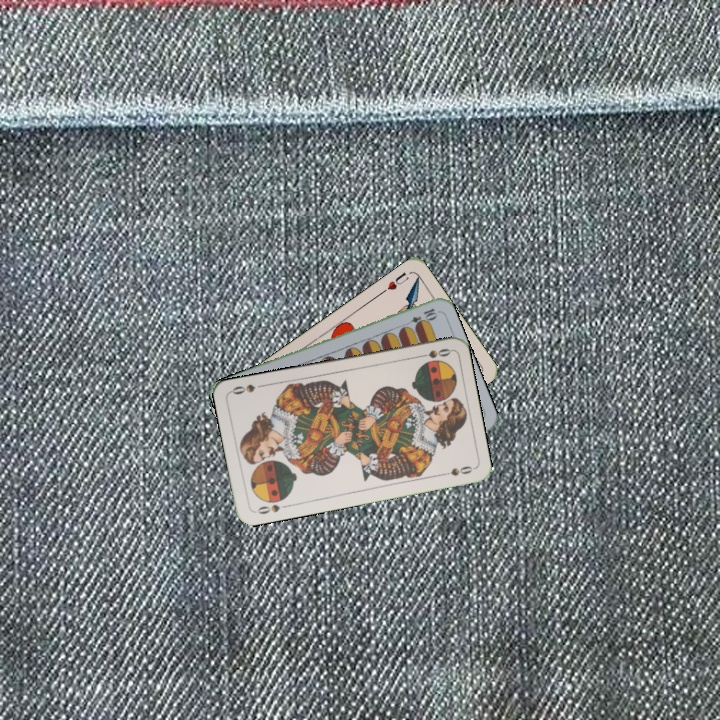E10: (400, 304, 439, 330)
HU: (377, 268, 412, 297)
SO: (250, 500, 291, 517), (413, 344, 453, 361)
